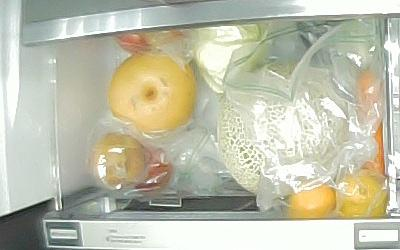cabbage_vinyl: (188, 24, 268, 93)
carrot_vinyl: (355, 66, 387, 173)
melon_vinyl: (217, 61, 353, 196)
pear: (107, 50, 196, 133)
prune_vinyl: (91, 134, 146, 192), (132, 144, 173, 195)
tangerine_vinyl: (338, 174, 389, 219), (288, 180, 338, 219)
